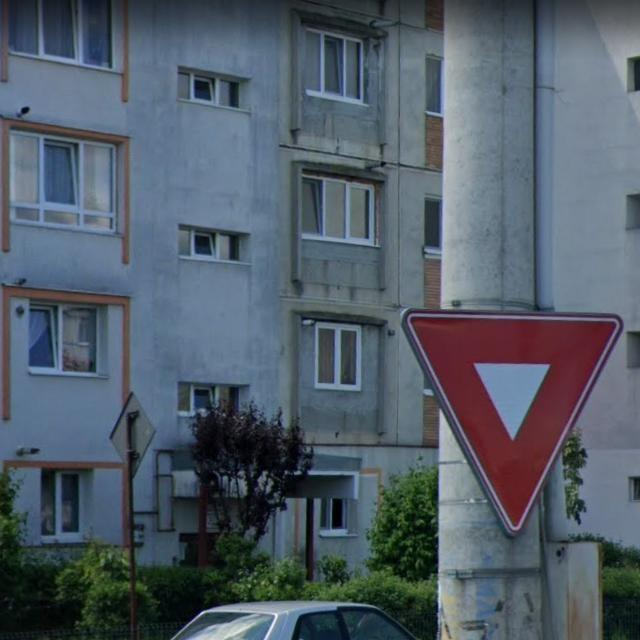prio_give_way: (396, 302, 630, 536)
